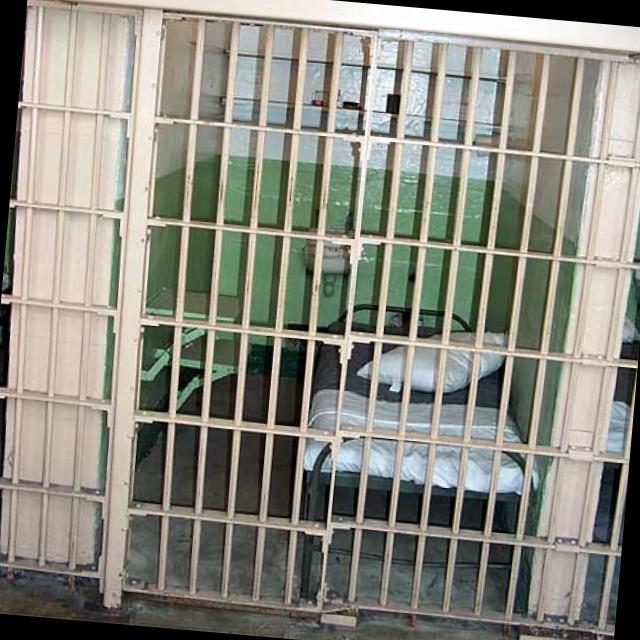bars: (155, 12, 609, 618)
berth: (301, 306, 535, 585)
cell crop: (0, 0, 161, 605)
cell phone: (529, 51, 640, 640)
floor -X: (121, 347, 528, 619), (0, 567, 609, 640)
pillow occluded: (360, 326, 513, 392)
shelf crop: (140, 281, 246, 379)
wall clock: (200, 16, 506, 360), (469, 44, 610, 611), (130, 9, 227, 477), (108, 0, 640, 53)
washbasin crop: (304, 224, 355, 293)
